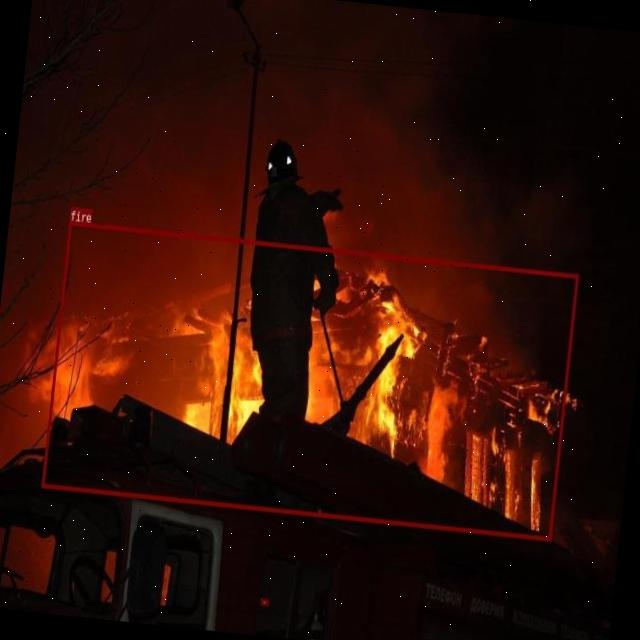fire: (41, 220, 577, 539)
